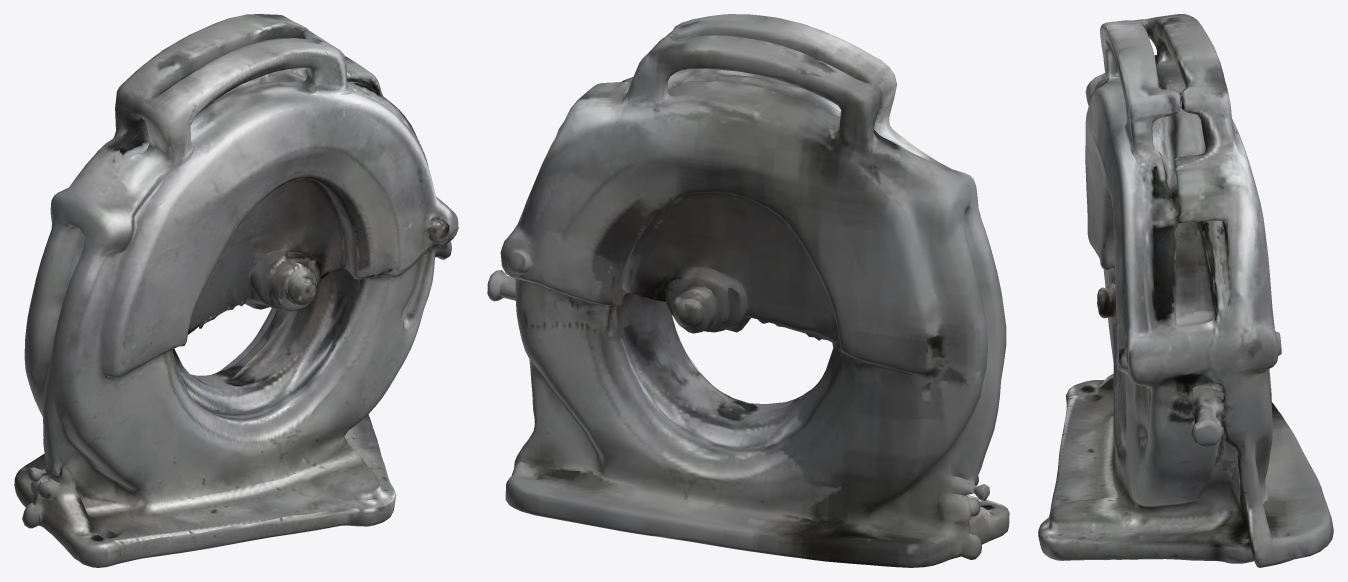
The model's file is splitting-saw.glb.
The picture shows the model from 3 angles, left to right: view 1: azimuth 30°, elevation 25°; view 2: azimuth 150°, elevation 25°; view 3: azimuth 270°, elevation 25°; orthographic projection. The views are drawn at different scales.
Parts seen in each view (by area): view 1: cowninja-splitting-saw; view 2: cowninja-splitting-saw; view 3: cowninja-splitting-saw.
Part boxes in pixels (<box>): cowninja-splitting-saw: <box>14,14,458,567</box>; cowninja-splitting-saw: <box>487,14,1009,567</box>; cowninja-splitting-saw: <box>1038,14,1333,567</box>.
Bounding box in the file's own units: 1.2 × 1.2 × 0.6819.
1 material, 1 textured.
